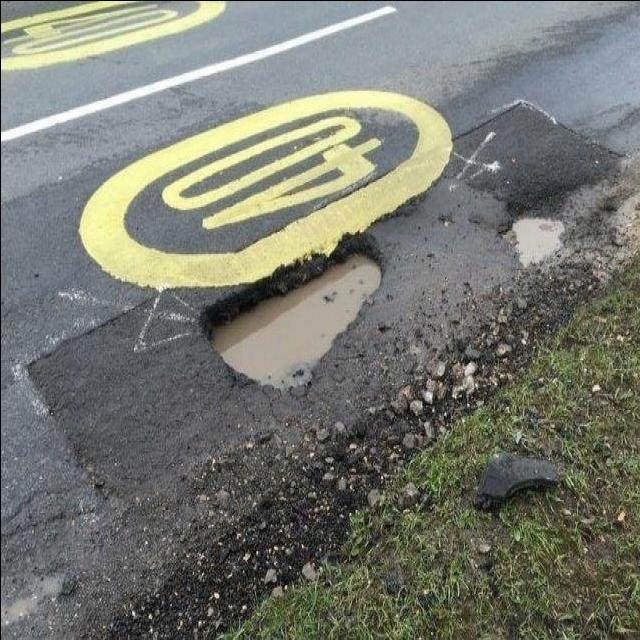lubang: (191, 226, 379, 392), (492, 186, 568, 264)
